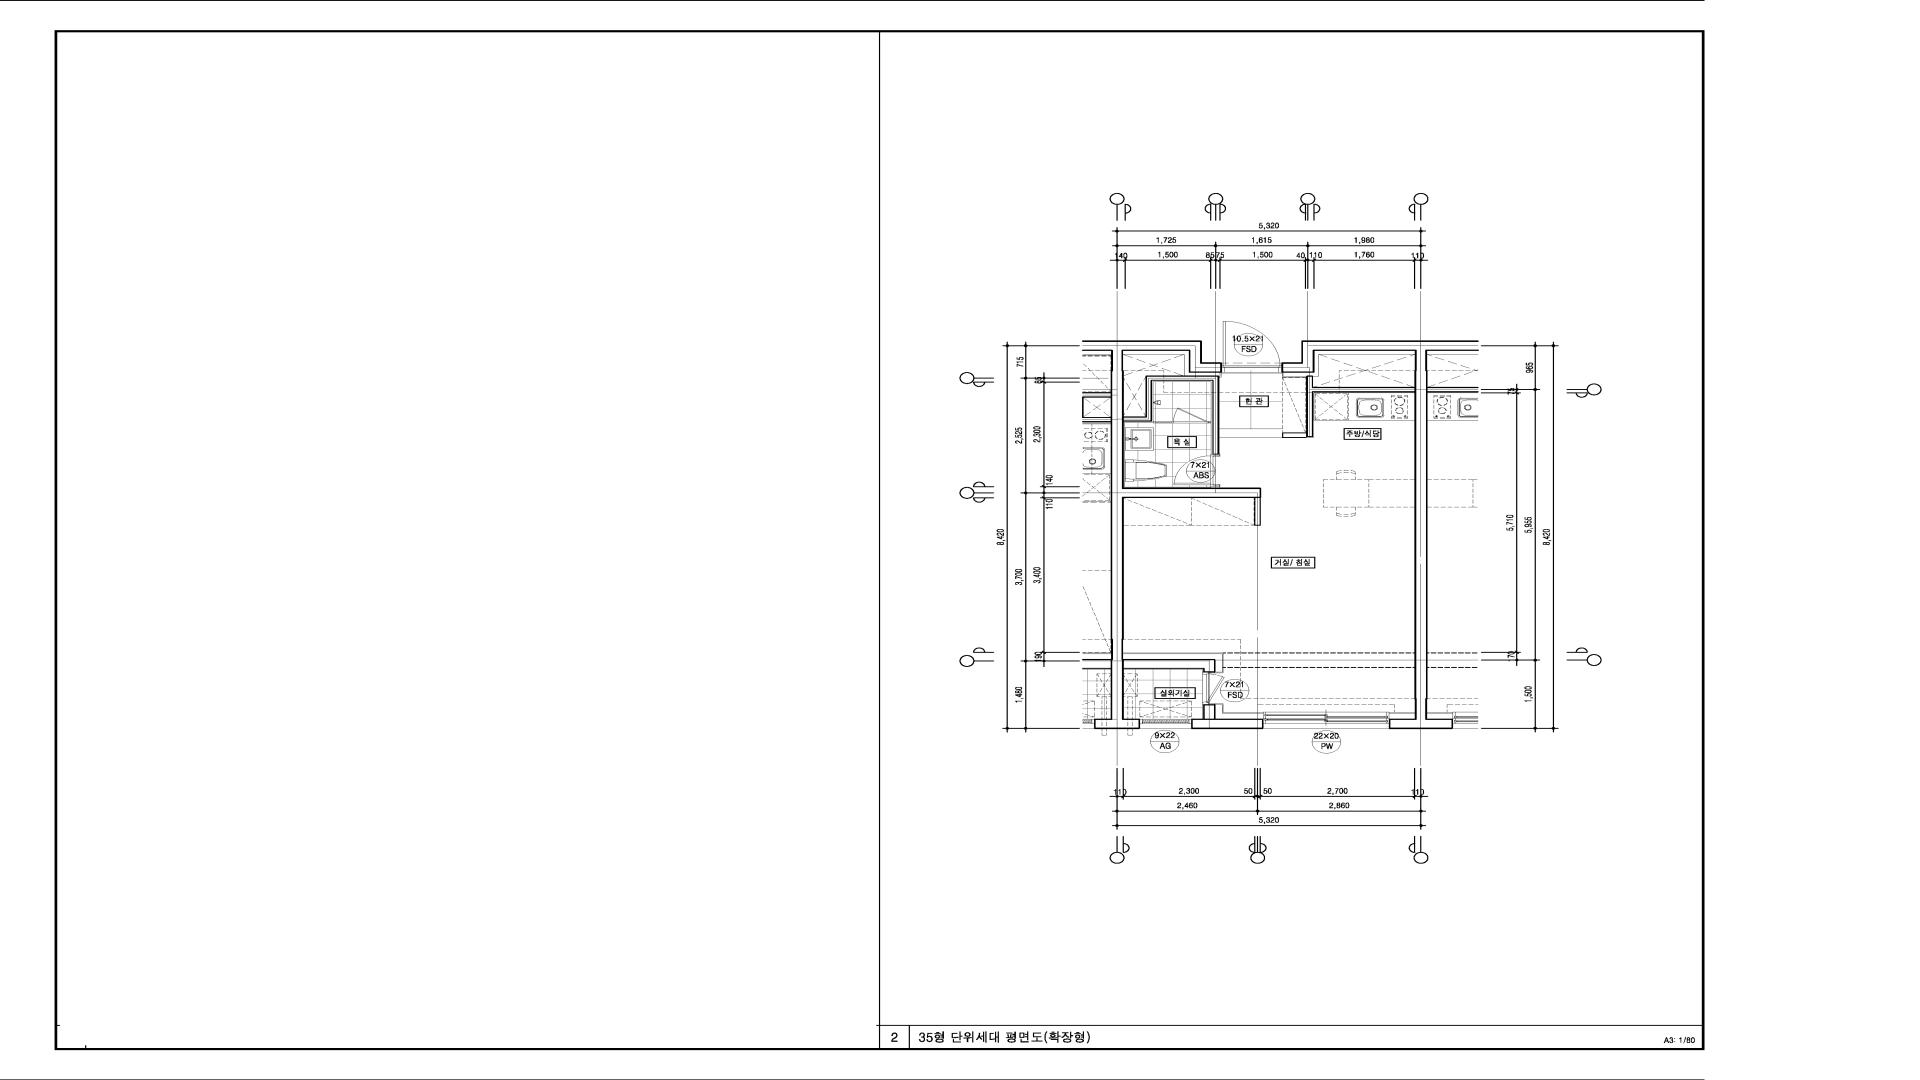door: (1221, 320, 1282, 373), (1174, 455, 1220, 488), (1203, 673, 1225, 704), (1174, 407, 1212, 423)
wall: (1110, 340, 1261, 729), (1282, 340, 1427, 729), (1191, 704, 1263, 729), (1254, 498, 1261, 526), (1282, 433, 1307, 438), (1154, 422, 1174, 423)
window: (1263, 712, 1389, 729), (1139, 719, 1191, 729)
